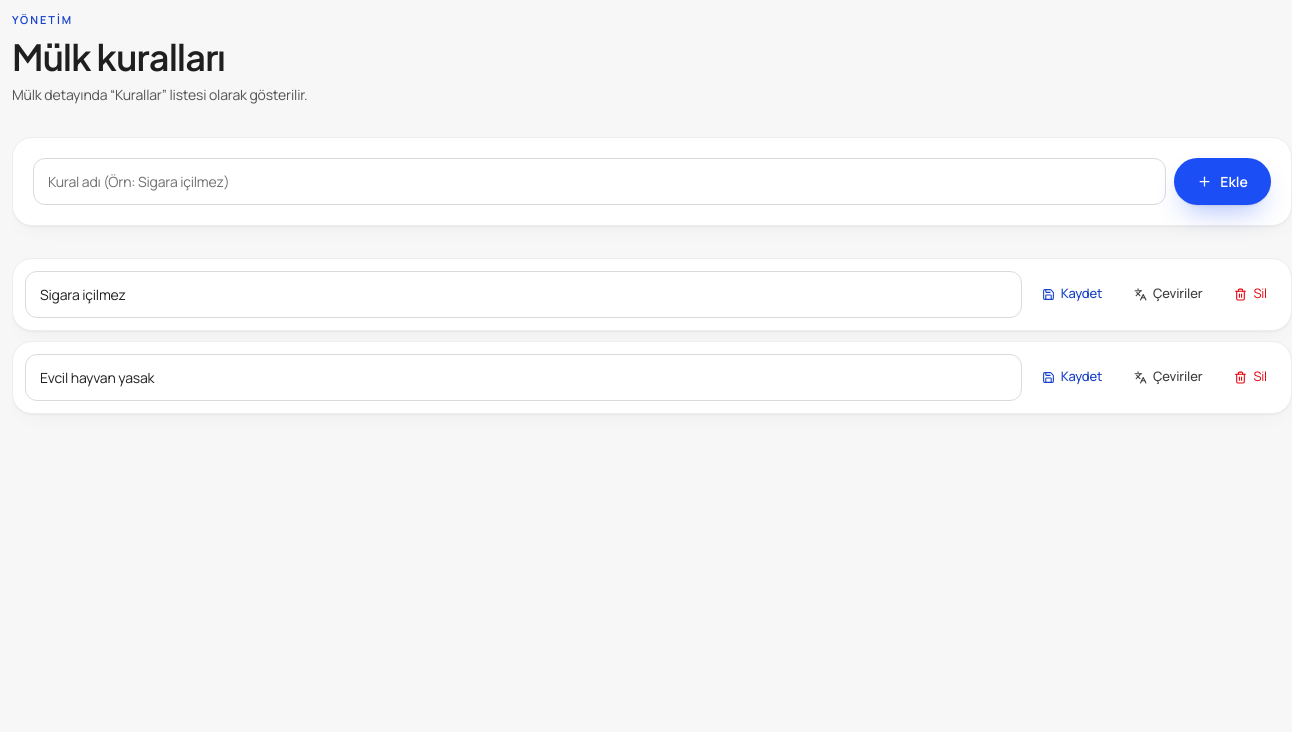
Test case: RulesPage — Phase 10D Batch 3 — mevcut çeviri yükleme + kaydet › 9) Mevcut EN/DE çevirileri input'a yüklenir
The width and height of the screenshot is (1292, 732).
Click the button with aria-label "çevirileri" at [1168, 294], box [1122, 276, 1214, 312]
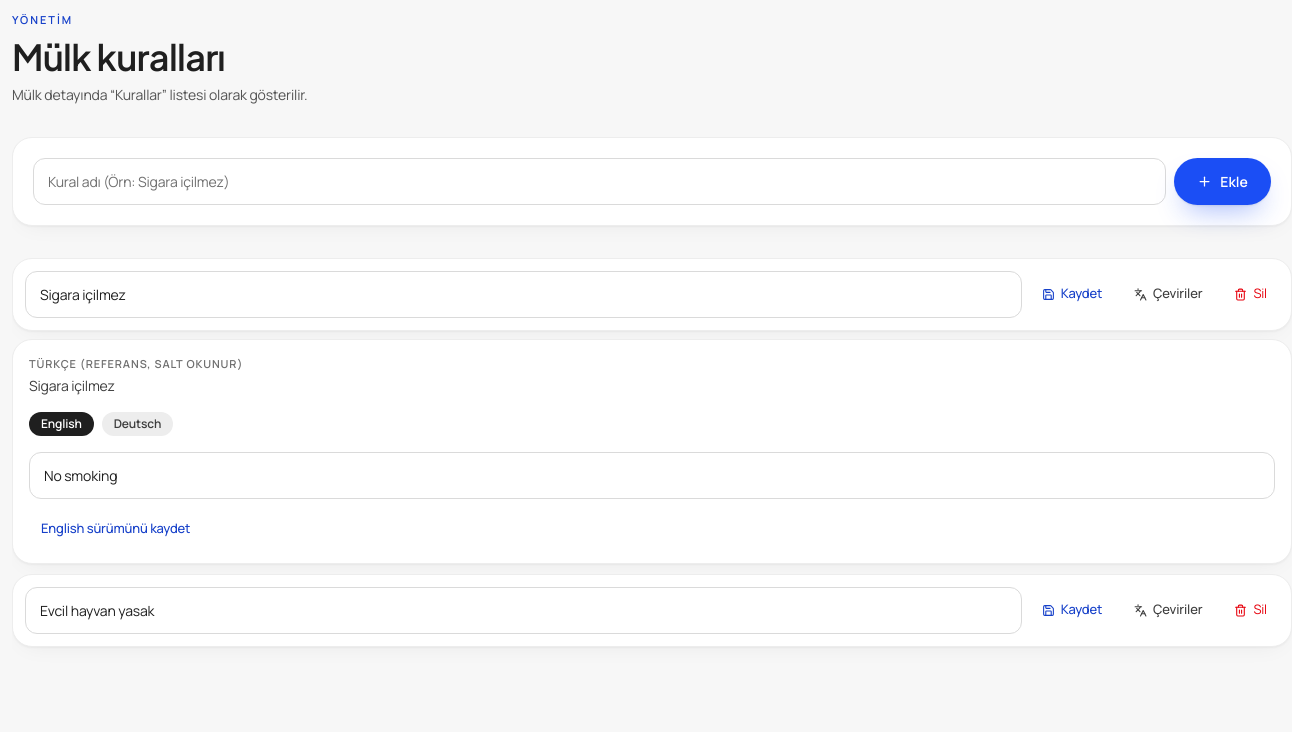
expect the field named "English" holds "No smoking": met, box [29, 452, 1275, 499]
Click the button "Deutsch" at [137, 424], box [102, 412, 173, 436]
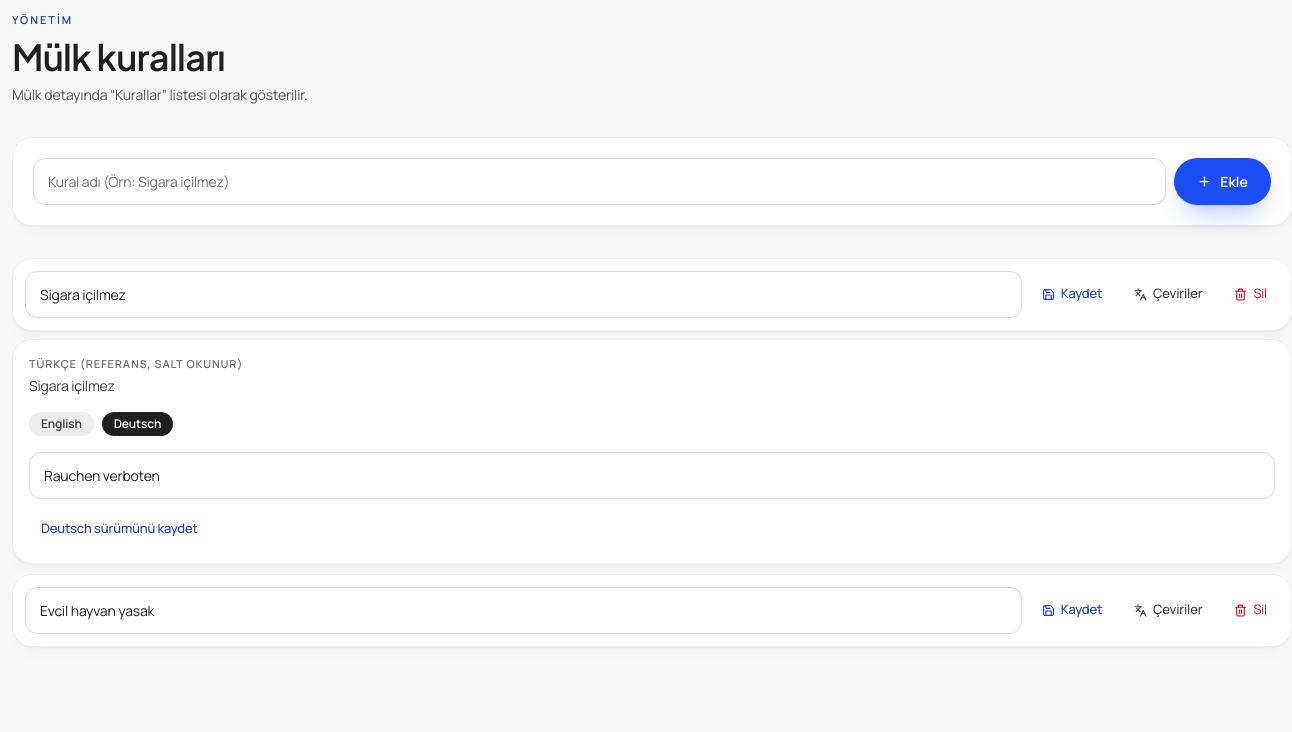
expect the field named "Deutsch" holds "Rauchen verboten": met, box [29, 452, 1275, 499]
